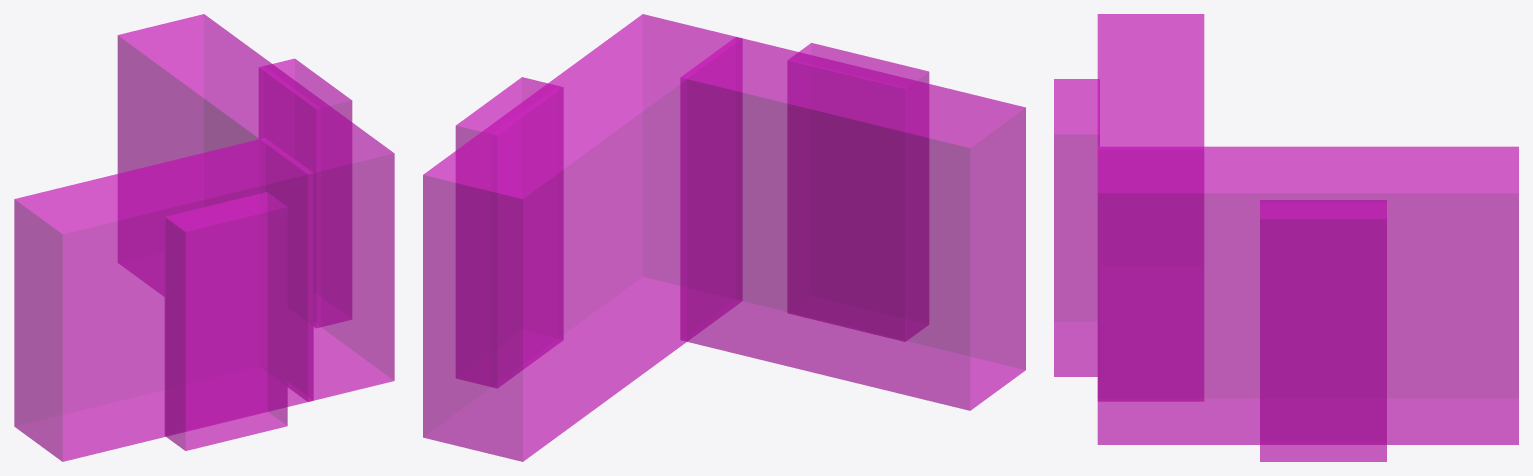
File: SM_Bld_Wall_L_Corner_Damaged_01_Collision.fbx
The picture shows the model from 3 angles, left to right: view 1: azimuth 30°, elevation 25°; view 2: azimuth 150°, elevation 25°; view 3: azimuth 270°, elevation 25°; orthographic projection. The views are drawn at different scales.
Visible parts, largest first — view 1: SM_Bld_Wall_L_Corner_Damaged_01_Collision; view 2: SM_Bld_Wall_L_Corner_Damaged_01_Collision; view 3: SM_Bld_Wall_L_Corner_Damaged_01_Collision.
Boxes of the visible parts, box(x1,y1,x2,y2) form: SM_Bld_Wall_L_Corner_Damaged_01_Collision: box(14, 14, 394, 461); SM_Bld_Wall_L_Corner_Damaged_01_Collision: box(423, 14, 1025, 461); SM_Bld_Wall_L_Corner_Damaged_01_Collision: box(1054, 14, 1518, 461).
Size of the model in its own units: 335 by 200 by 335.
